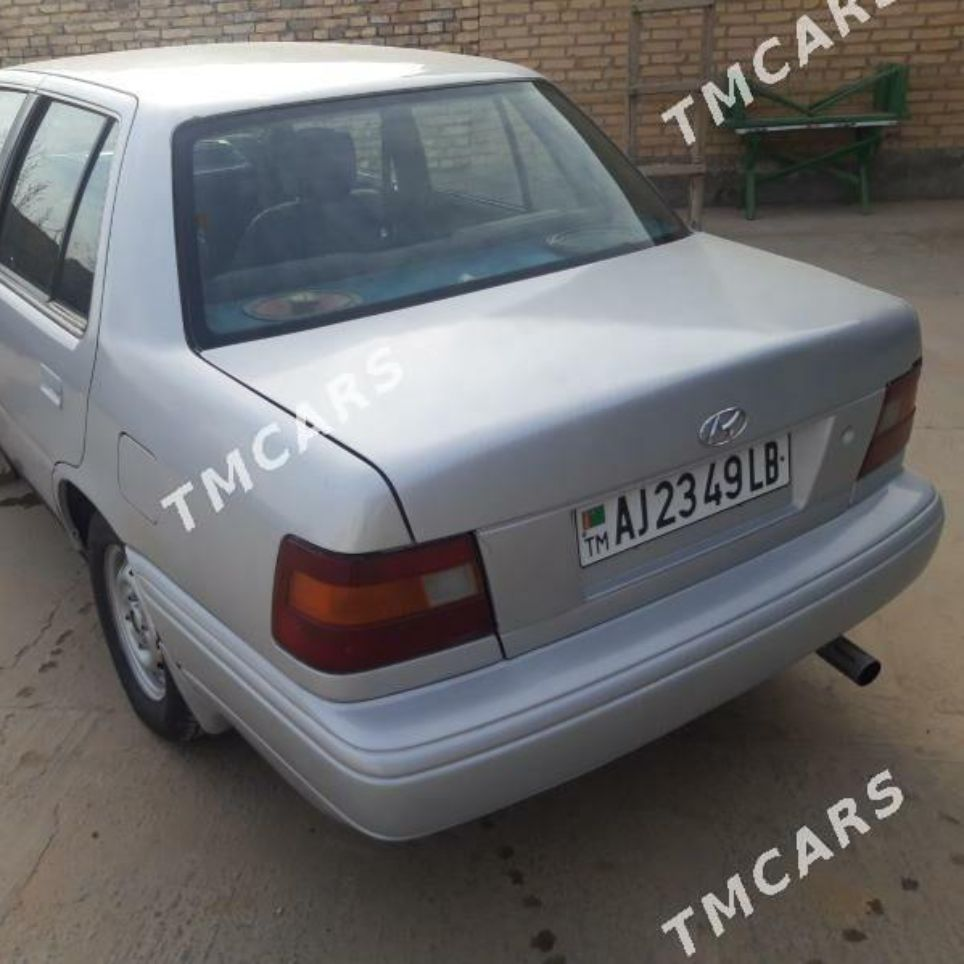license plate: (570, 435, 791, 567)
truck: (2, 48, 963, 831)
